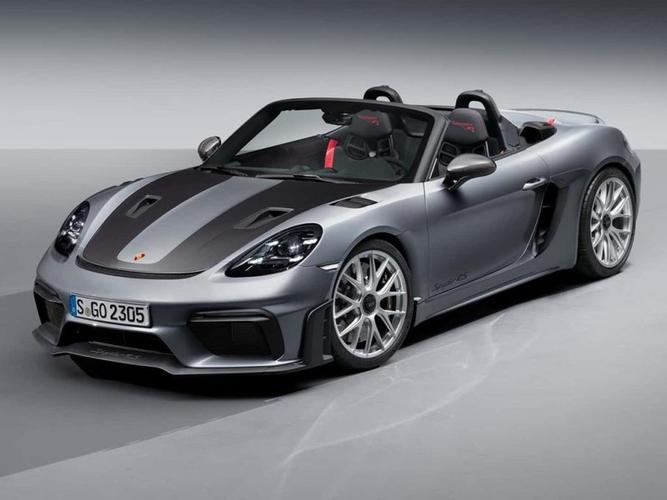汽车: (32, 77, 643, 396)
